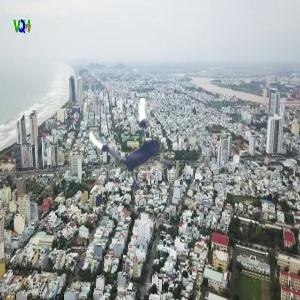drone: (87, 94, 193, 200)
